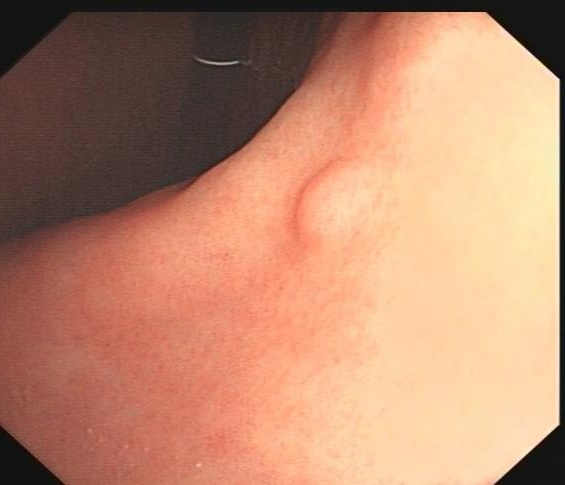Polyp: (287, 153, 381, 255)
